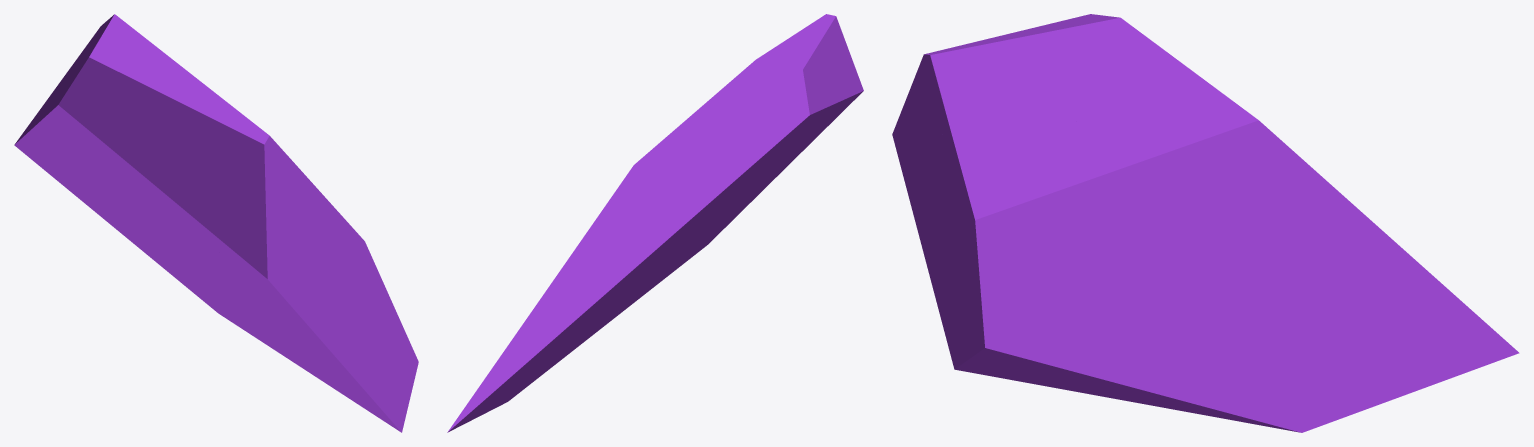
File: Window_119_3_chunks.fbx
The picture shows the model from 3 angles, left to right: view 1: azimuth 30°, elevation 25°; view 2: azimuth 150°, elevation 25°; view 3: azimuth 270°, elevation 25°; orthographic projection. The views are drawn at different scales.
Parts seen in each view (by area): view 1: Window_119_3_0, Window_119_3_1, Window_119_3_3; view 2: Window_119_3_3, Window_119_3_0, Window_119_3_1; view 3: Window_119_3_3, Window_119_3_1, Window_119_3_0, Window_119_3_2.
Boxes of the visible parts, left/top/right/bottom form: Window_119_3_0: left=51, top=14, right=314, bottom=283; Window_119_3_1: left=183, top=186, right=418, bottom=432; Window_119_3_3: left=14, top=22, right=301, bottom=367; Window_119_3_3: left=447, top=121, right=746, bottom=432; Window_119_3_0: left=693, top=14, right=863, bottom=187; Window_119_3_1: left=602, top=96, right=858, bottom=327; Window_119_3_3: left=1112, top=80, right=1519, bottom=432; Window_119_3_1: left=894, top=133, right=1143, bottom=403; Window_119_3_0: left=892, top=14, right=1189, bottom=149; Window_119_3_2: left=1015, top=69, right=1204, bottom=246.
Bounding box in the file's own units: 231 × 336 × 574.
